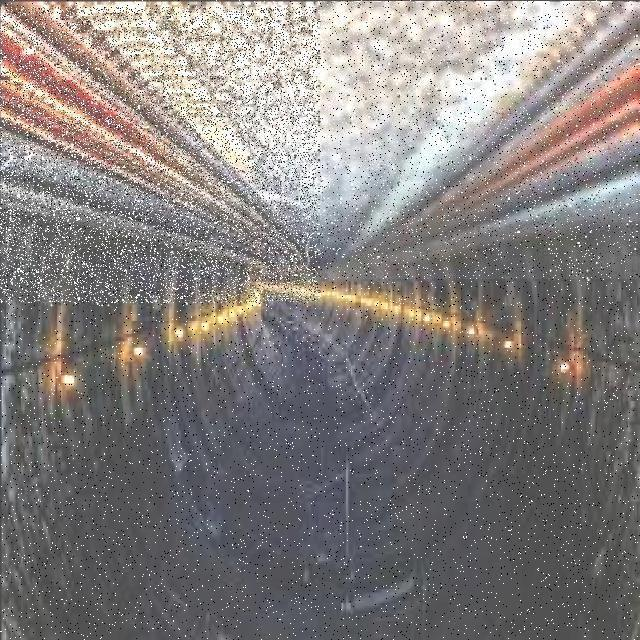rail: (1, 8, 320, 304), (322, 2, 638, 280)
